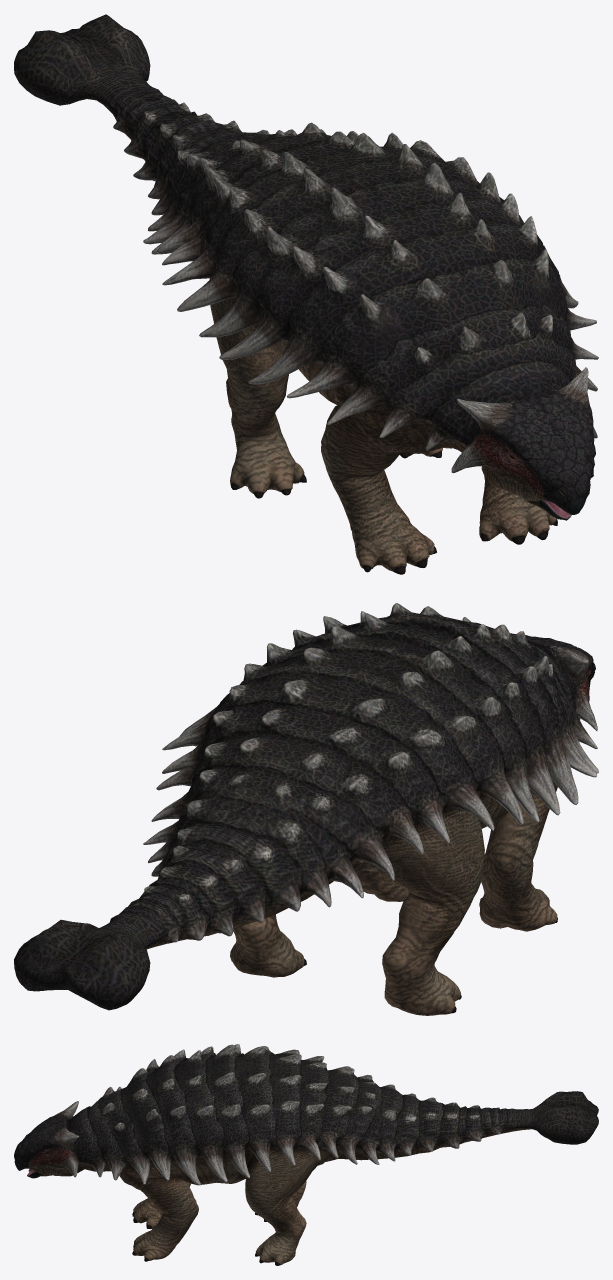
Rendered from ankylosaurus.gltf.
3 renders of one model, top to bottom at view 1: azimuth 30°, elevation 25°; view 2: azimuth 150°, elevation 25°; view 3: azimuth 270°, elevation 25°, orthographic. The views are drawn at different scales.
Visible parts, largest first — view 1: Object_2; view 2: Object_2; view 3: Object_2.
Boxes of the visible parts, x1=… form: Object_2: x1=14, y1=14, x2=598, y2=574; Object_2: x1=14, y1=603, x2=598, y2=1015; Object_2: x1=14, y1=1044, x2=598, y2=1265.
Bounding box in the file's own units: 29.18 × 25.75 × 76.4.
1 material, 1 textured.
